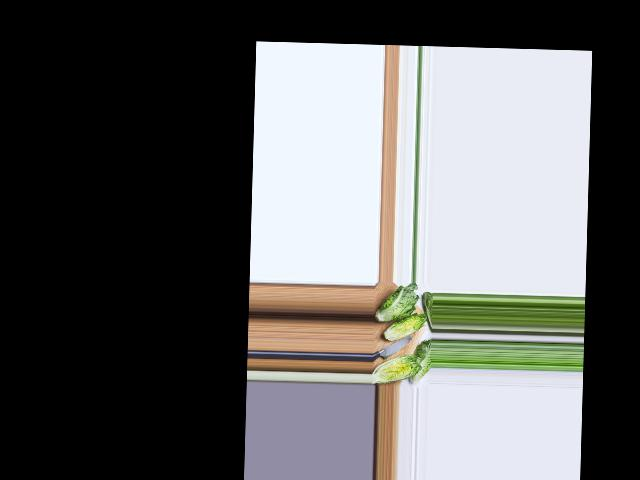lettuce: (409, 340, 429, 383)
